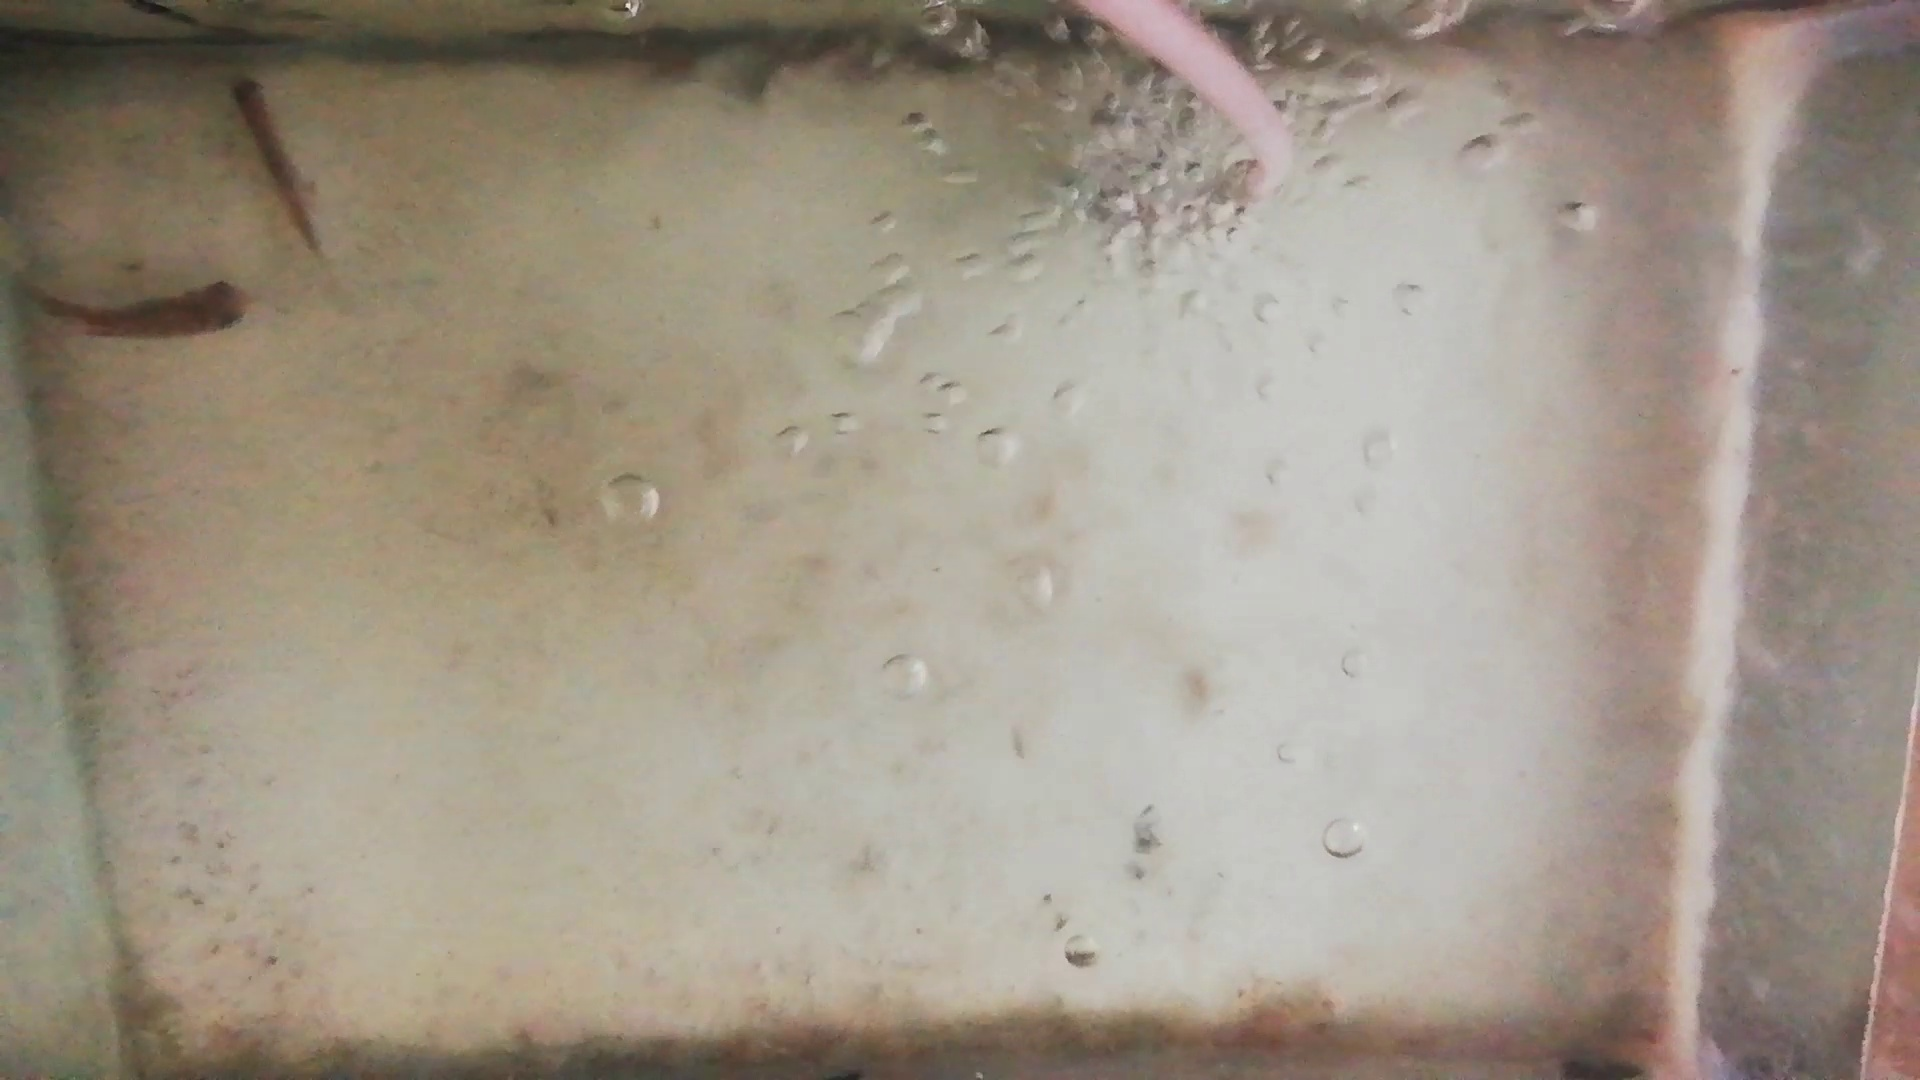fish: (225, 66, 316, 248), (22, 280, 251, 338)
